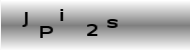2: (85, 23, 98, 37)
J: (21, 11, 28, 27)
P: (39, 24, 52, 38)
i: (58, 7, 64, 22)
s: (106, 18, 119, 28)
